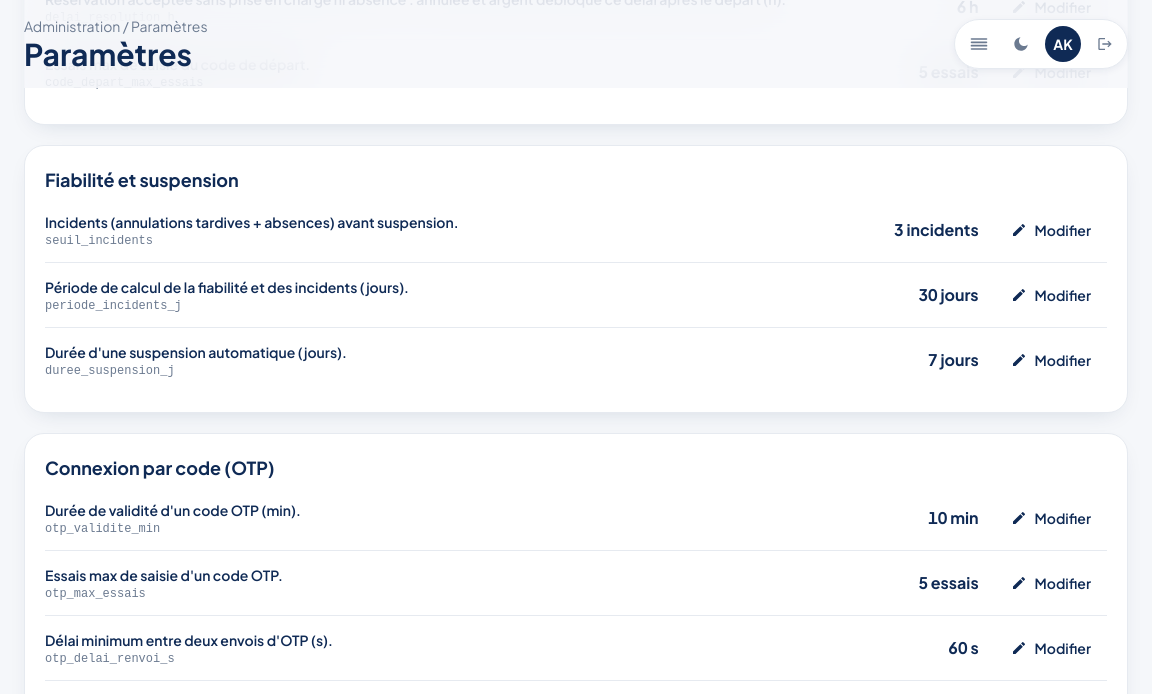
Test: paramètres › modifie une valeur et affiche qui l’a changée
(page scrolled)
Click the button "Modifier" in the row of "duree_suspension_j".
click(1051, 360)  # box [995,340,1107,380]
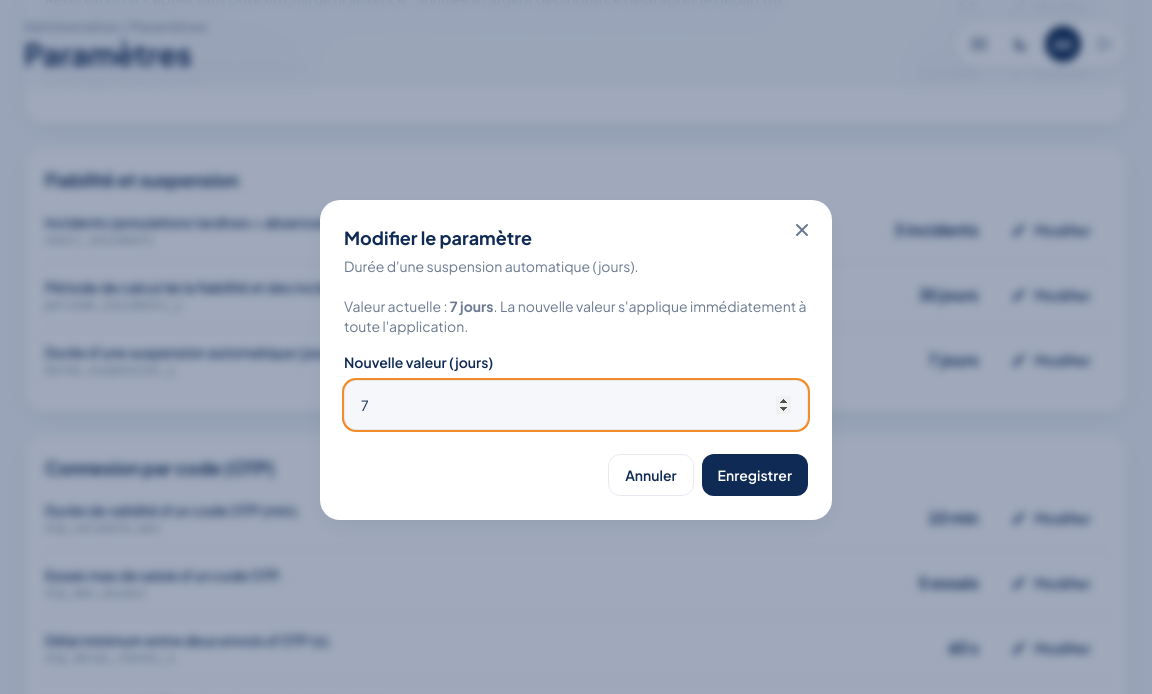
Result: the dialog "Modifier le paramètre" shows "Valeur actuelle : 7 jours" at [320,200,832,520]
Replace the text in the number field labelled "Nouvelle valeur (jours)" with "14" at (576, 405), box [361,381,791,429]
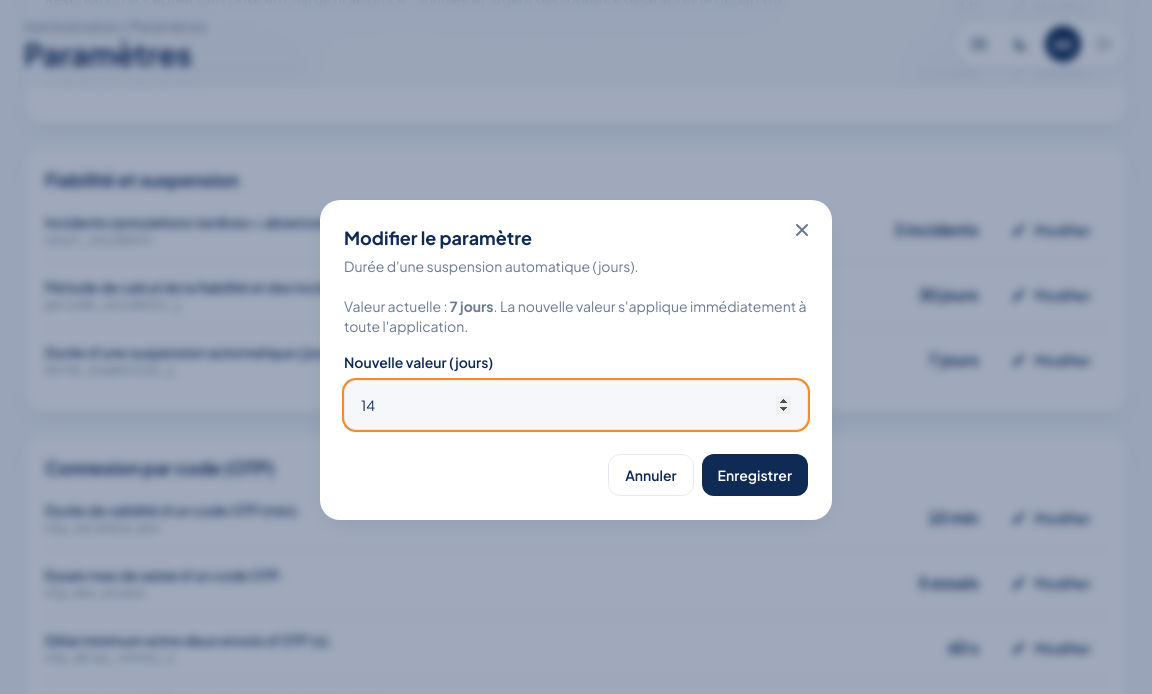
Click the button "Enregistrer".
click(755, 475)  # box [702,454,808,496]
(page scrolled)
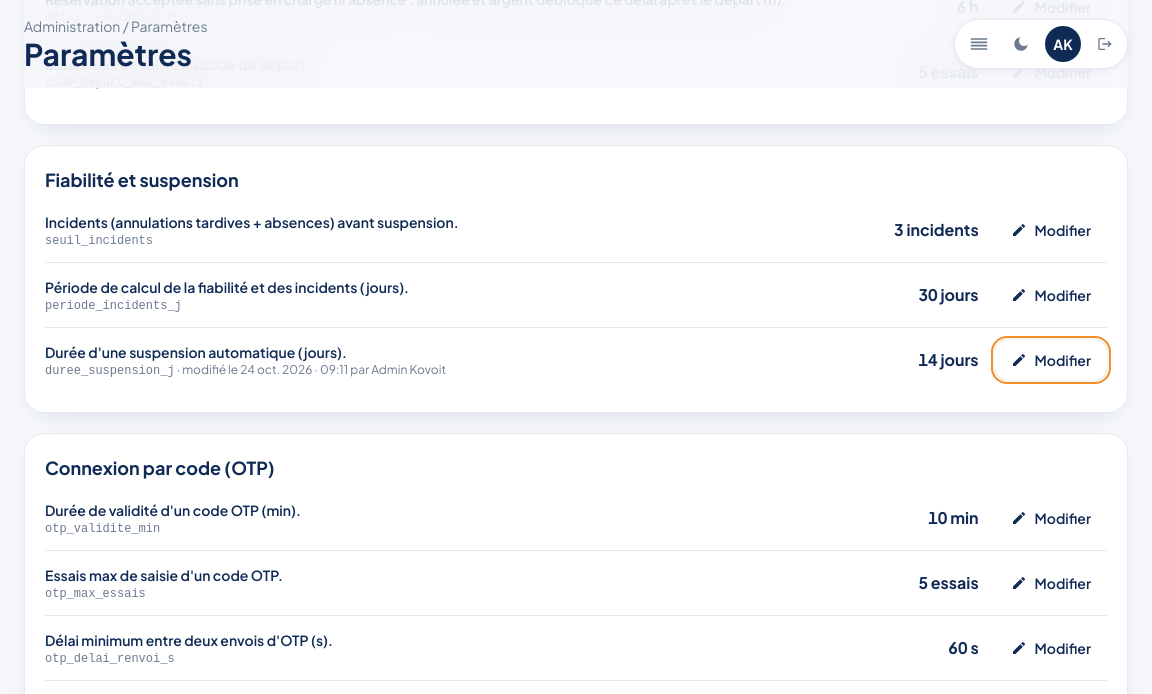
Result: the dialog is gone
Result: the list item "Durée d'une suspension automatique (jours)." shows "14 jours" at [918,349,979,370]
Result: the list item "Durée d'une suspension automatique (jours)." shows "par Admin Kovoit" at [175,362,446,376]
